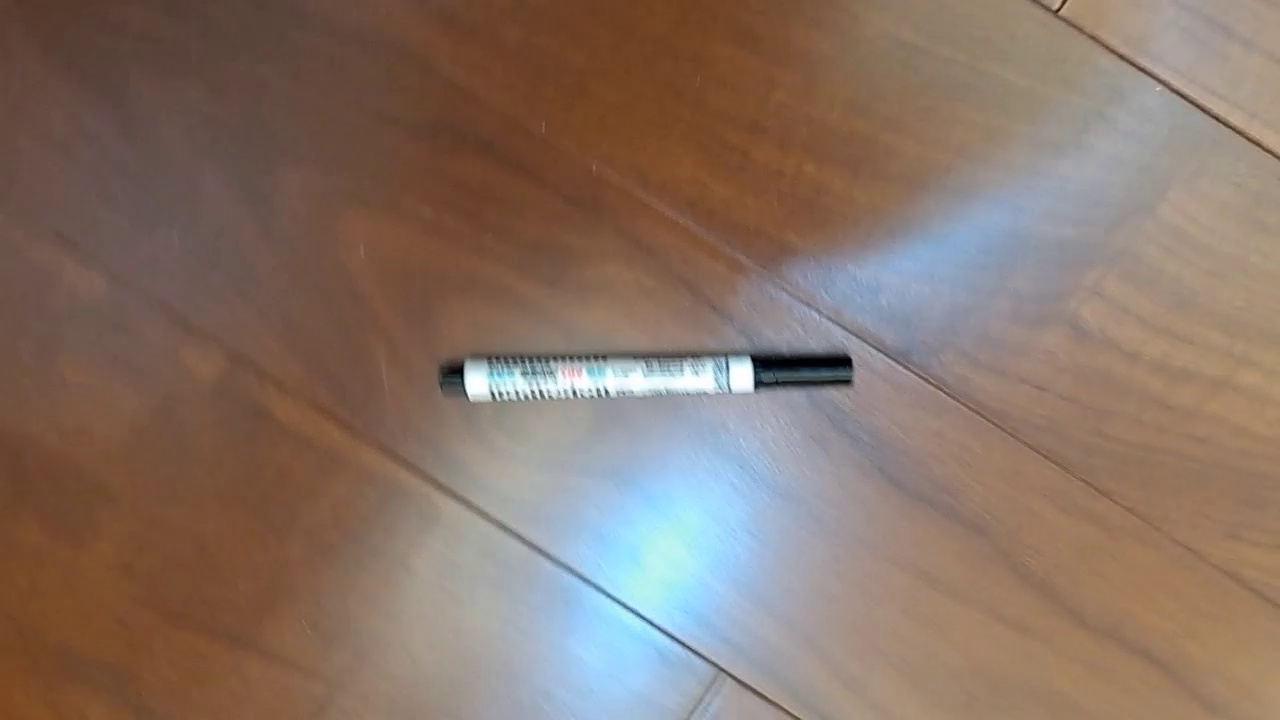pen: (437, 351, 855, 405)
